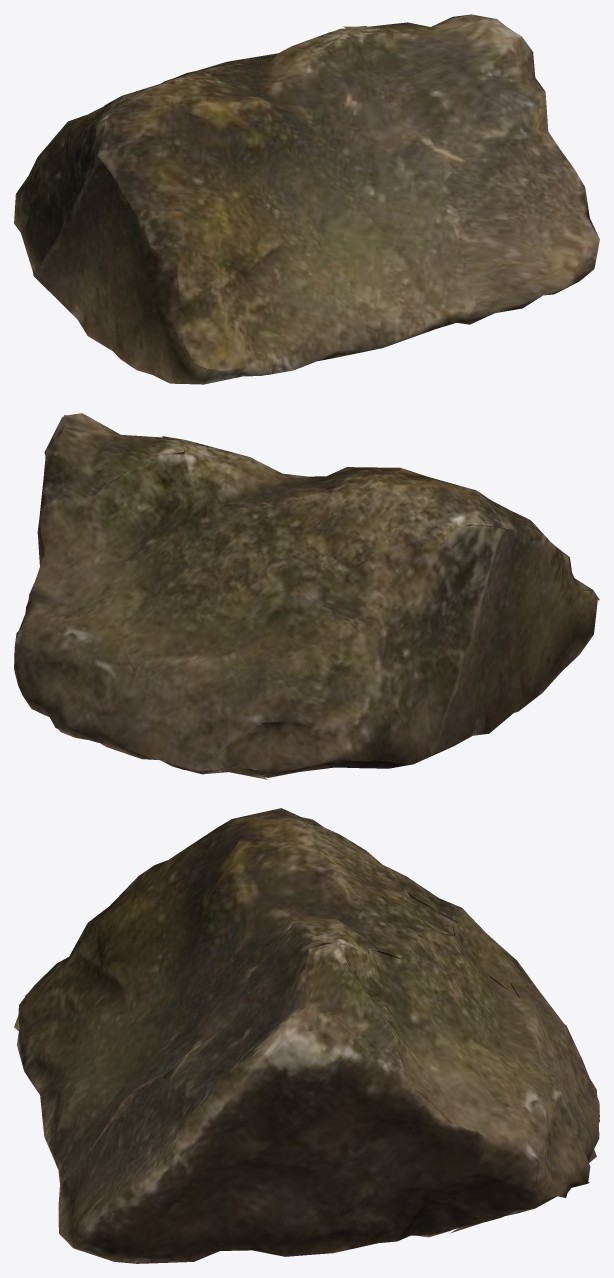
The model's file is rock_moss_set_01_2.glb.
3 renders of one model, top to bottom at view 1: azimuth 30°, elevation 25°; view 2: azimuth 150°, elevation 25°; view 3: azimuth 270°, elevation 25°, orthographic. The views are drawn at different scales.
Visible parts, largest first — view 1: rock_moss_set_01_rock03; view 2: rock_moss_set_01_rock03; view 3: rock_moss_set_01_rock03.
Part boxes in pixels (x1,y1,x2,y2): rock_moss_set_01_rock03: [14, 14, 599, 384]; rock_moss_set_01_rock03: [14, 413, 599, 779]; rock_moss_set_01_rock03: [14, 808, 599, 1263].
Bounding box in the file's own units: 2.11 × 1.09 × 2.08.
Materials: 1 (1 with a texture image).
